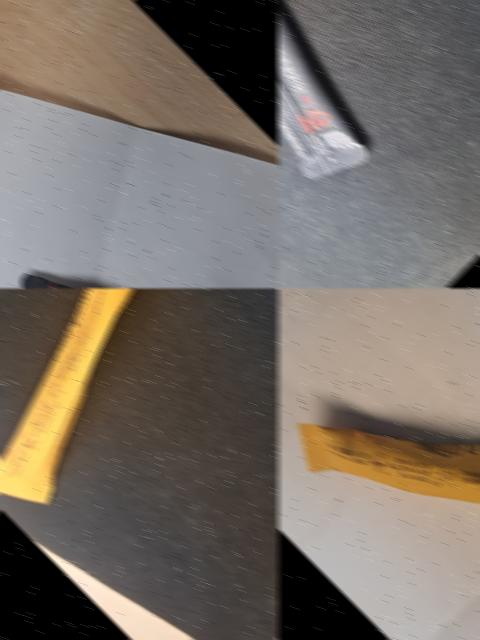KANU: (277, 0, 438, 219), (0, 182, 274, 288)
mix_coffee: (277, 288, 480, 640), (0, 288, 279, 534)
